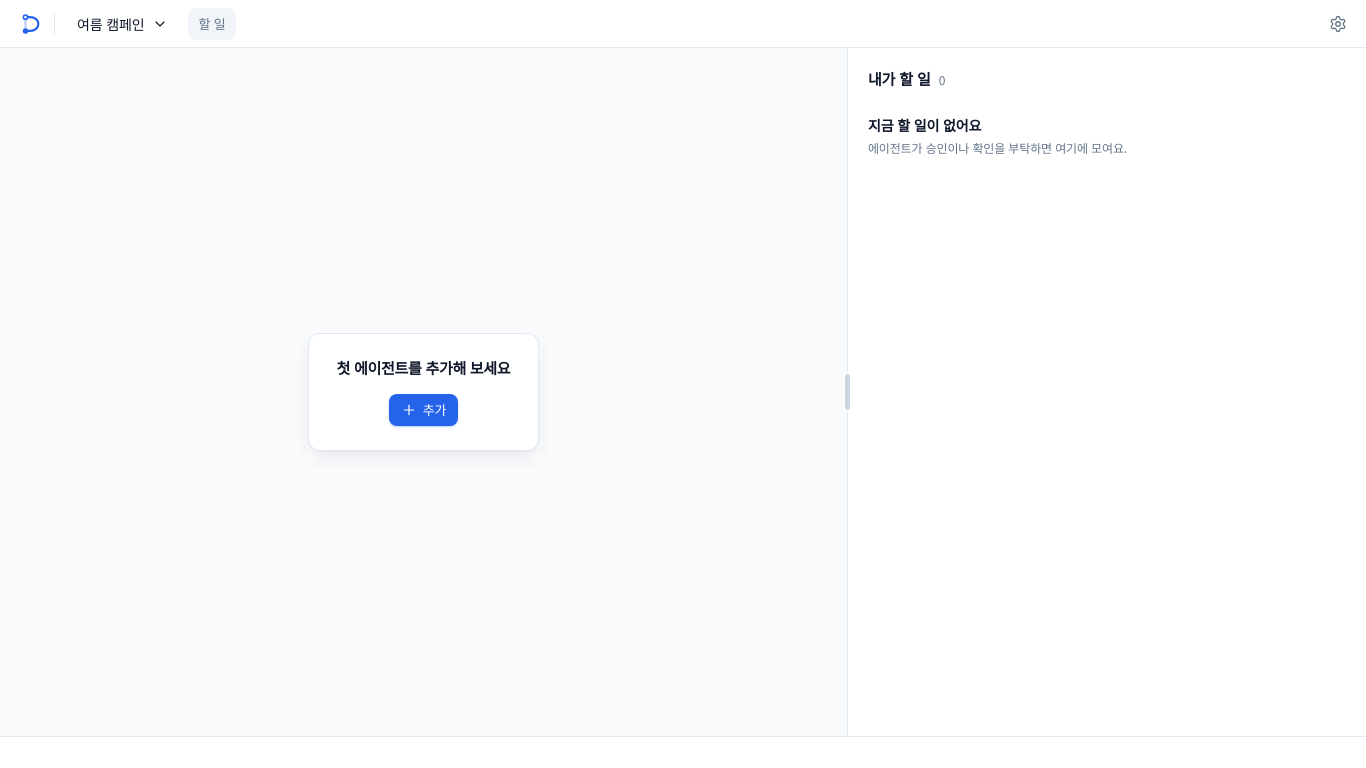
Test: App 셸 › 빈 화면의 추가는 에이전트 추가 대화상자를 연다
Step 1. Click the button "추가" → (423, 410), box [389,394,458,426]
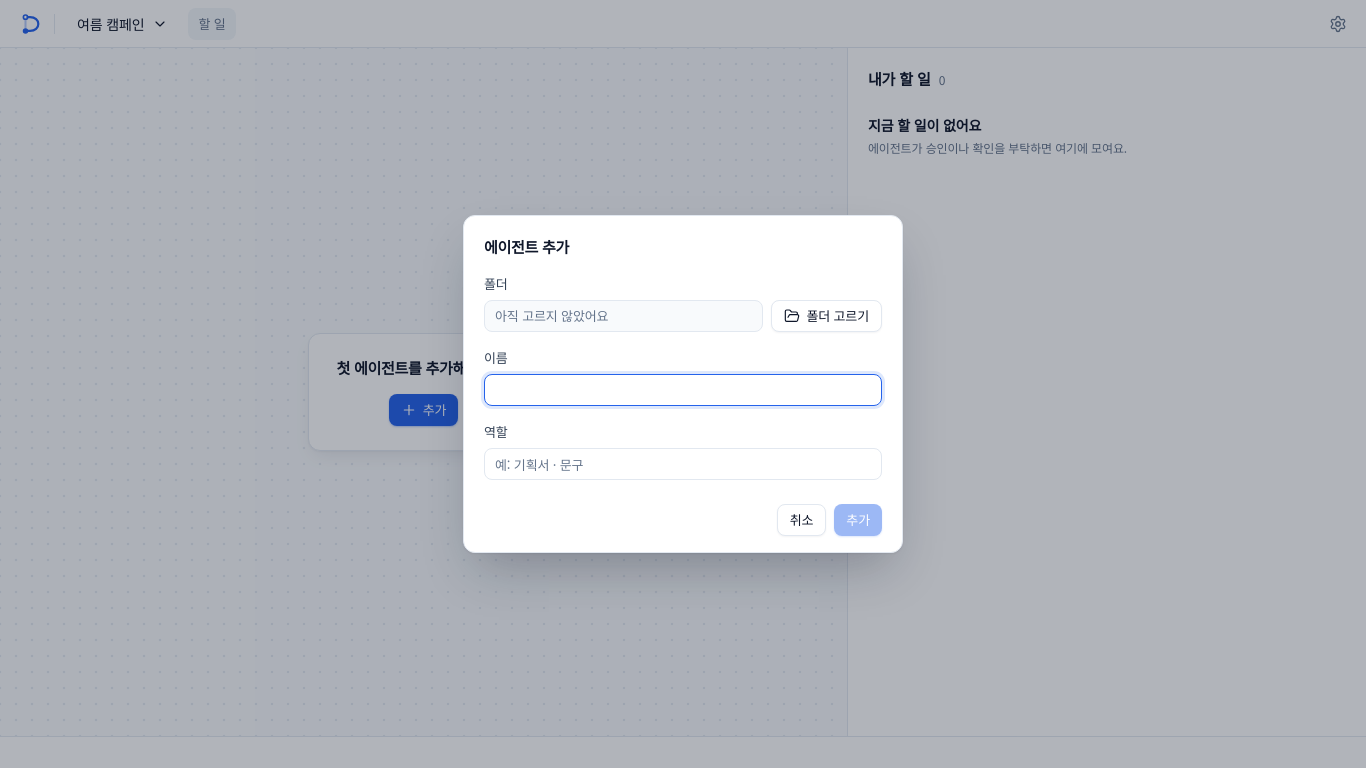
expect the dialog "에이전트 추가" is shown: met, box [463,215,903,553]
